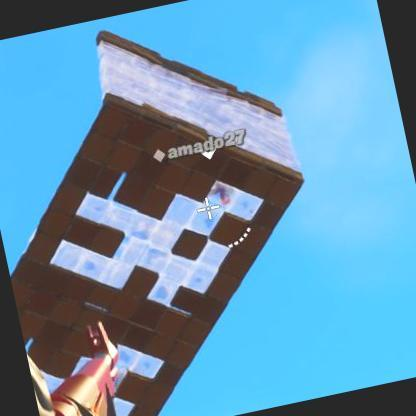person: (208, 172, 235, 212)
